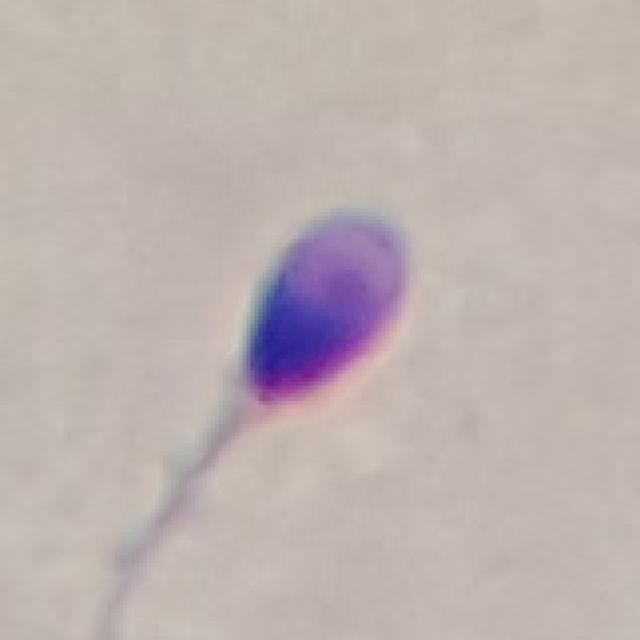normal sperm: (178, 210, 412, 485)
